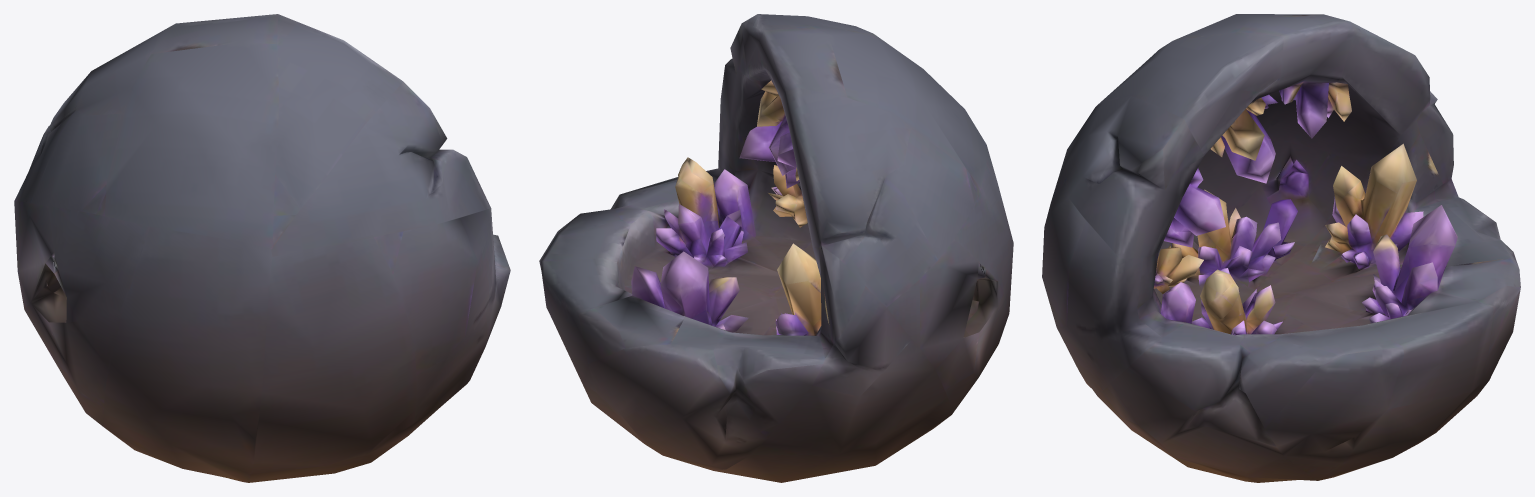
Rendered from geode.glb.
3 views of the same model, side by side, from view 1: azimuth 30°, elevation 25°; view 2: azimuth 150°, elevation 25°; view 3: azimuth 270°, elevation 25° (orthographic). The views are drawn at different scales.
Visible parts, largest first — view 1: tripo_node_c97d32dc-4be0-4e4e-a8ca-7719b5f4a25f; view 2: tripo_node_c97d32dc-4be0-4e4e-a8ca-7719b5f4a25f; view 3: tripo_node_c97d32dc-4be0-4e4e-a8ca-7719b5f4a25f.
Boxes of the visible parts, x1,y1,x2,y2 form: tripo_node_c97d32dc-4be0-4e4e-a8ca-7719b5f4a25f: [14, 14, 510, 482]; tripo_node_c97d32dc-4be0-4e4e-a8ca-7719b5f4a25f: [539, 14, 1013, 482]; tripo_node_c97d32dc-4be0-4e4e-a8ca-7719b5f4a25f: [1042, 14, 1520, 482].
Size of the model in its own units: 0.9701 by 0.9406 by 0.9749.
Materials: 1 (1 with a texture image).
